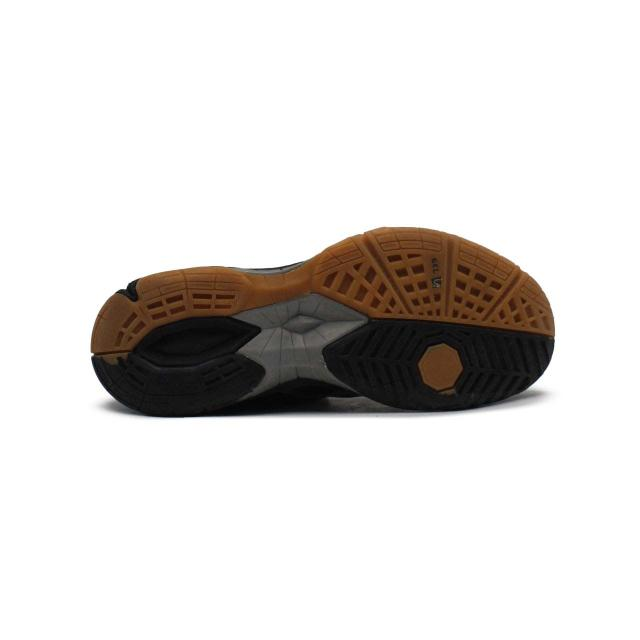outersole: (88, 225, 562, 413)
